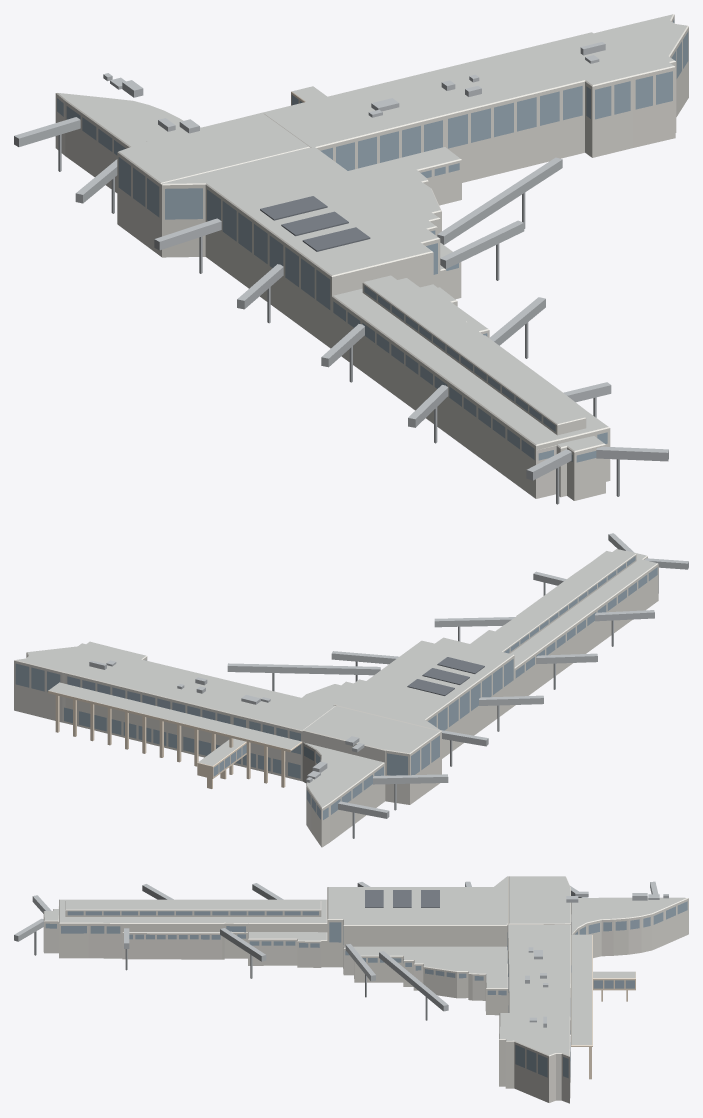
The model's file is atl-hartsfield-jackson-international-terminal.glb.
3 views of the same model, one above another, from view 1: azimuth 30°, elevation 25°; view 2: azimuth 150°, elevation 25°; view 3: azimuth 270°, elevation 25° (orthographic). The views are drawn at different scales.
Parts seen in each view (by area): view 1: Maynard H. Jackson International Terminal and Concourse F; view 2: Maynard H. Jackson International Terminal and Concourse F; view 3: Maynard H. Jackson International Terminal and Concourse F.
Part boxes in pixels (left/top/right/bottom): Maynard H. Jackson International Terminal and Concourse F: left=14, top=14, right=688, bottom=504; Maynard H. Jackson International Terminal and Concourse F: left=14, top=533, right=688, bottom=847; Maynard H. Jackson International Terminal and Concourse F: left=14, top=876, right=688, bottom=1103.
Size of the model in its own units: 296 by 37.3 by 432.
